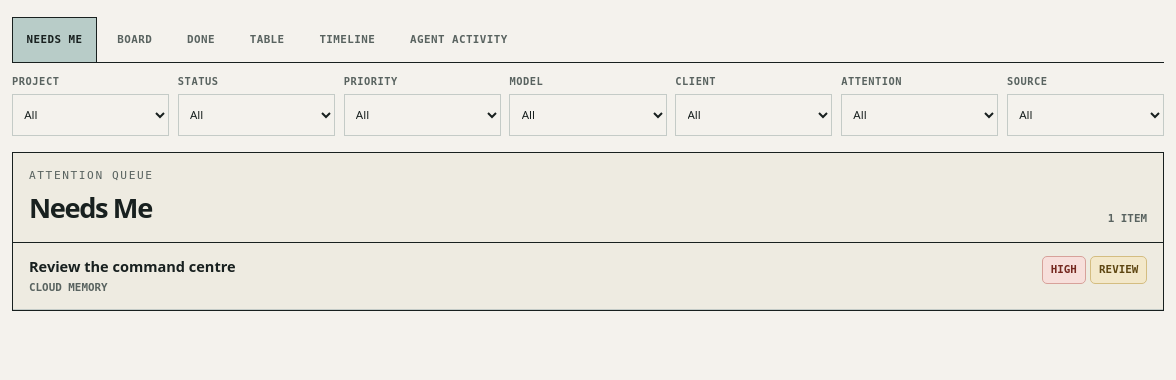
it: CommandCentreViews › renders timeline and bounded agent activity without transcript content
Click the tab "Timeline" at (347, 39), box [305,17,390,62]
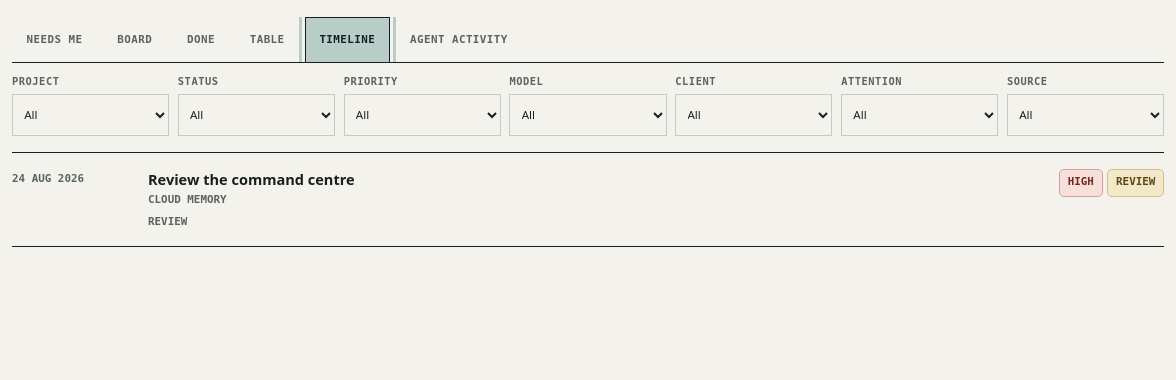
Expected: the text "Review the command centre" is shown, [148,169,355,189]
Now the text "24 Aug 2026" is shown, box [12,172,84,185]
Click the tab "Agent Activity" at (459, 39), box [395,17,522,62]
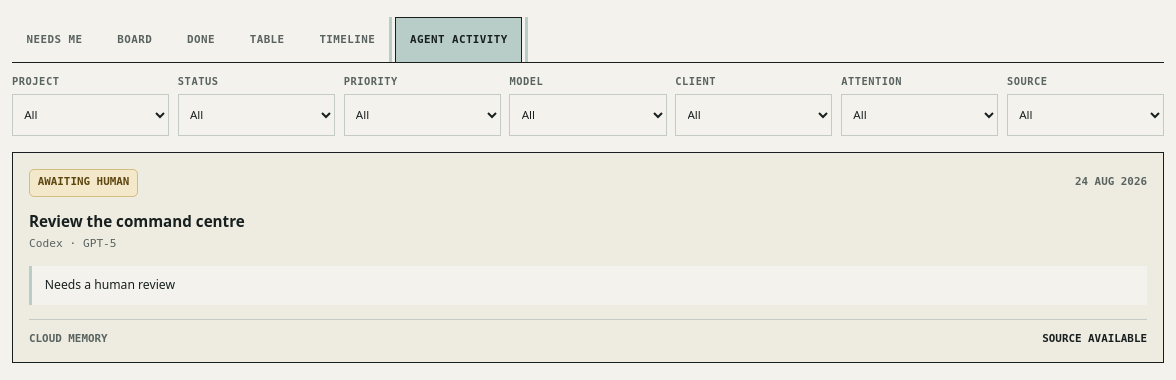
Now the text "Needs a human review" is shown, box [29,266,1147,305]
Now the text "Awaiting Human" is shown, box [29,169,138,197]
